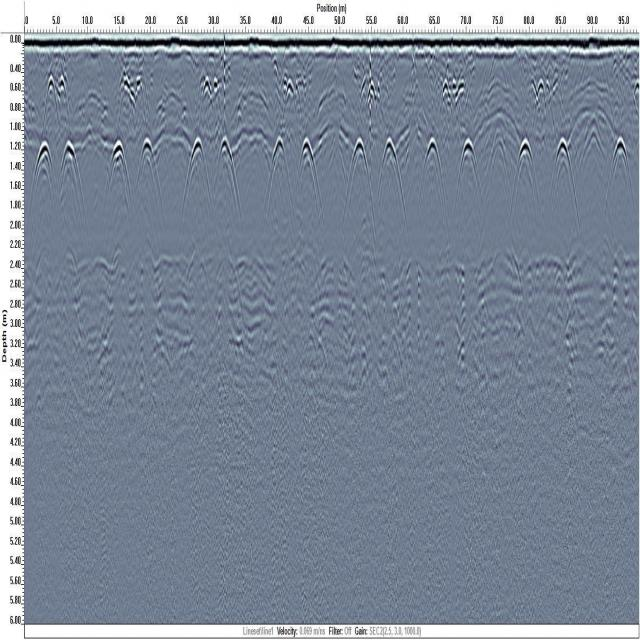hyperbola: (294, 126, 321, 208), (104, 135, 133, 207), (455, 125, 484, 197), (214, 129, 239, 209), (510, 130, 540, 194), (59, 138, 86, 206), (378, 131, 404, 199), (184, 130, 211, 195), (606, 128, 634, 190), (135, 133, 160, 201), (346, 128, 371, 196), (266, 126, 289, 199), (420, 126, 445, 192), (550, 129, 576, 192), (34, 133, 55, 207)
